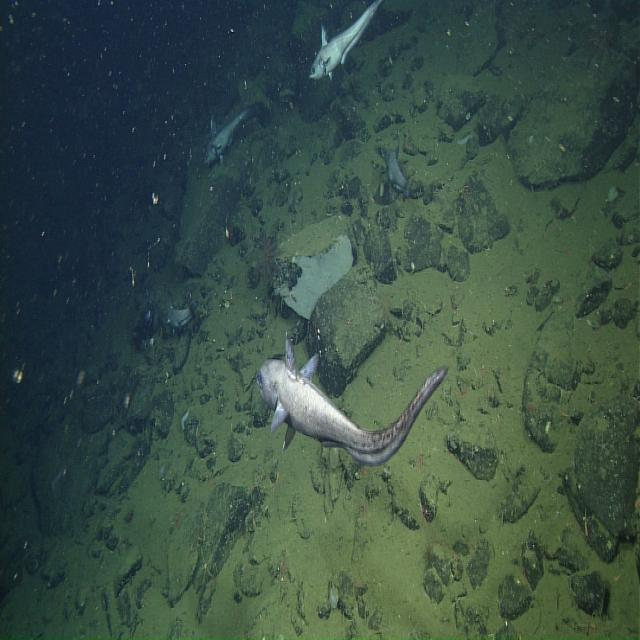Brittle Star: (198, 543, 218, 589), (594, 429, 613, 459)
Not Brittle Star: (256, 320, 449, 473), (306, 0, 382, 84), (378, 135, 421, 203), (246, 228, 287, 292), (327, 581, 340, 611), (180, 404, 191, 434), (456, 129, 474, 147)
